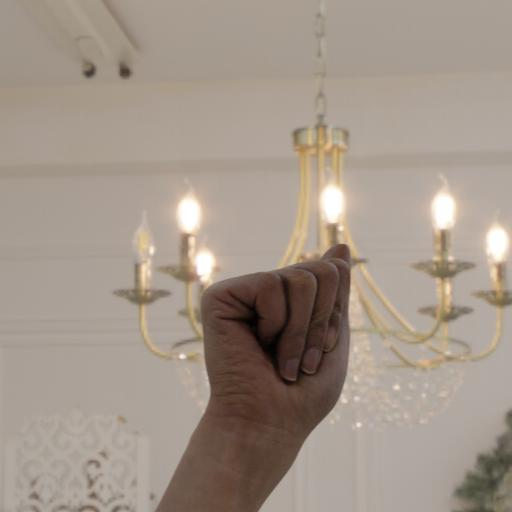A: (169, 229, 375, 440)
